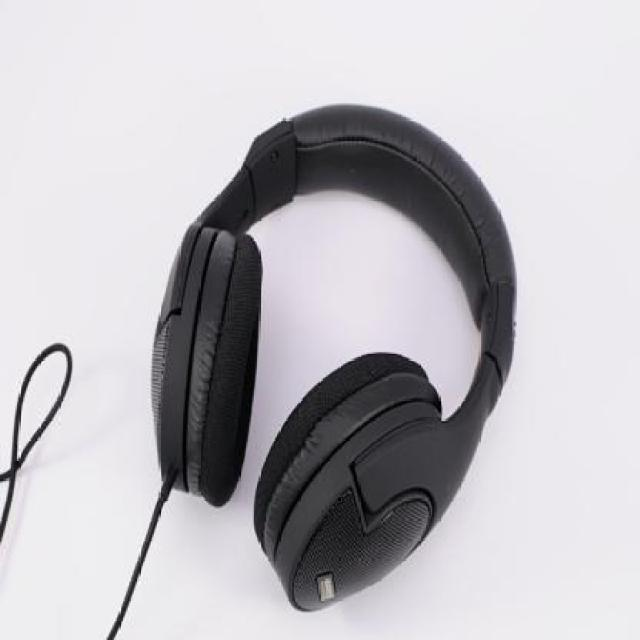earphone: (137, 62, 485, 615)
